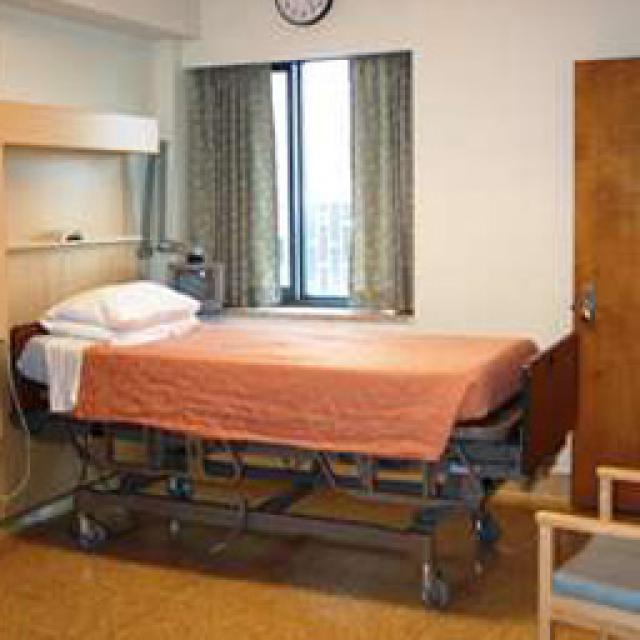2001: (188, 48, 418, 310)
armchair occluded: (538, 462, 640, 637)
bed -occluded-: (12, 275, 578, 605)
curtain crop: (188, 62, 282, 308), (352, 48, 415, 312)
door bars: (575, 55, 640, 502)
floor -X: (2, 465, 640, 638)
pillow occluded: (50, 272, 202, 328)
wall clock: (178, 0, 638, 475), (3, 0, 200, 542)
